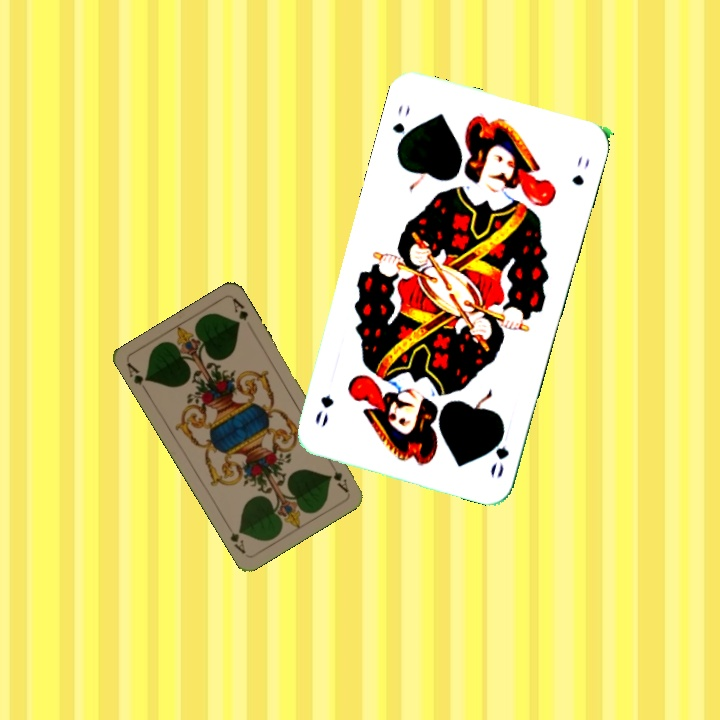GA: (123, 359, 152, 396), (325, 458, 351, 495)
GO: (486, 421, 512, 481), (388, 100, 413, 153)
